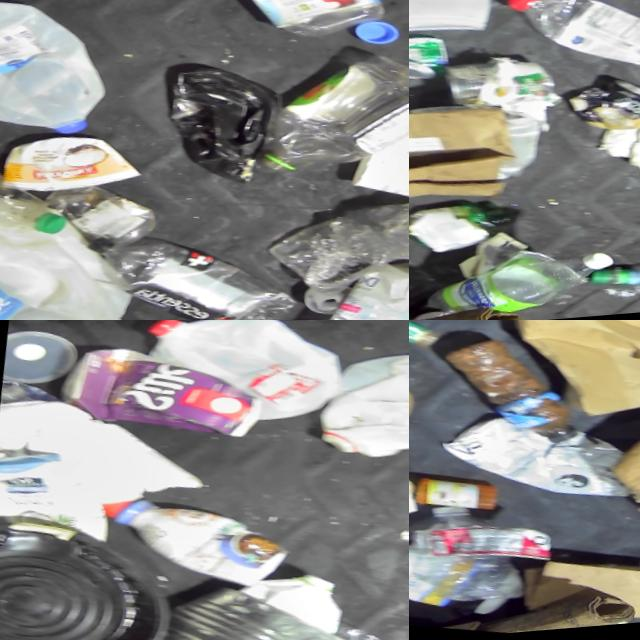can: (120, 570, 369, 640), (451, 60, 551, 125), (558, 75, 640, 148), (409, 34, 447, 97)
milk_jug: (126, 320, 348, 449), (0, 192, 142, 320), (0, 0, 111, 157), (307, 341, 409, 488), (296, 256, 409, 320)
plastic_bottle: (255, 47, 409, 200), (420, 233, 613, 320), (297, 180, 409, 298), (410, 503, 524, 616), (502, 0, 640, 92), (200, 0, 395, 58), (0, 134, 78, 246)
